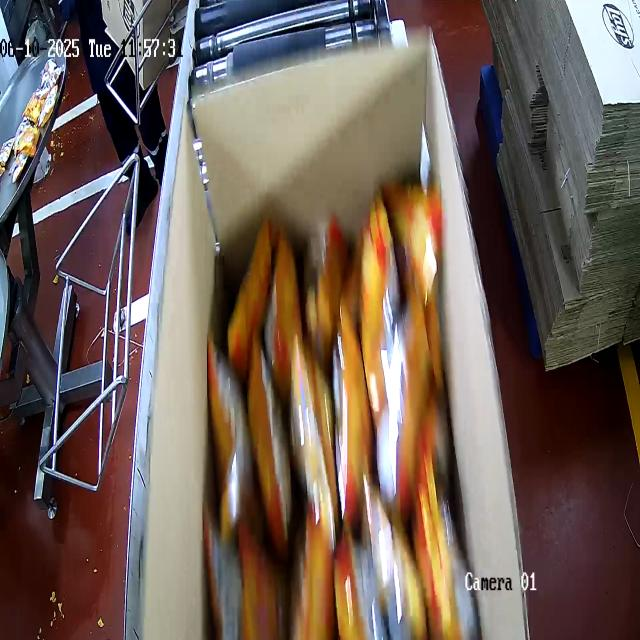FRENCH_CHEESE: (214, 212, 463, 640)
